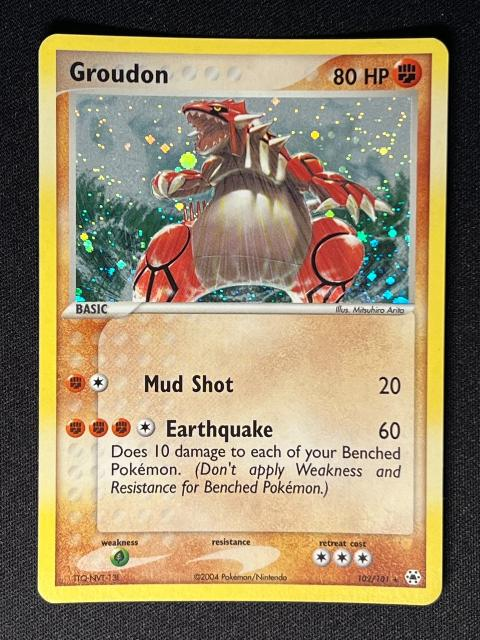Card: (33, 29, 453, 610)
Name: (67, 56, 175, 92)
